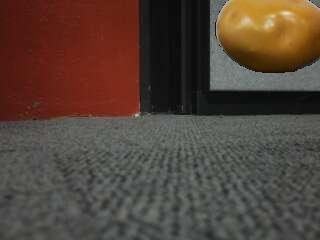Potato: (216, 0, 320, 73)
